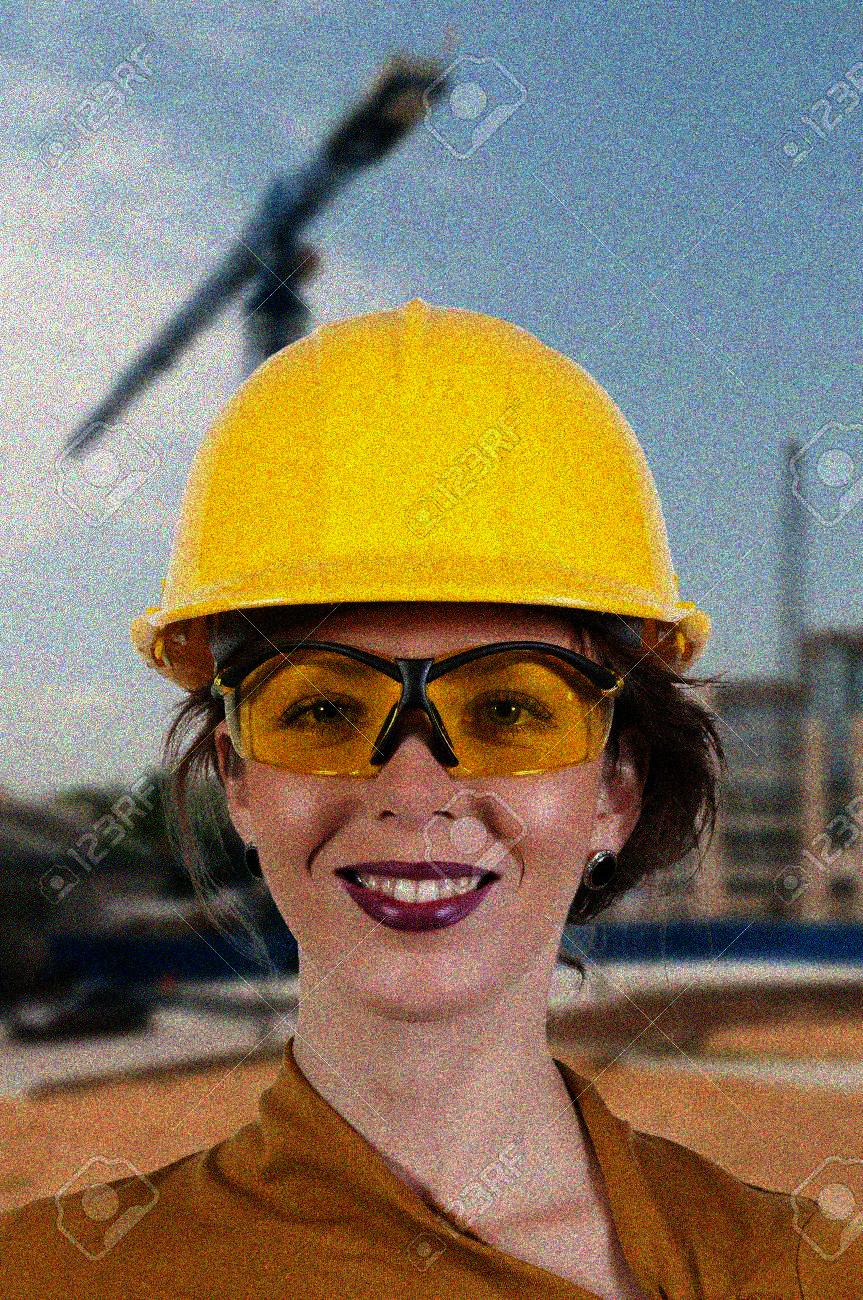helmet: (132, 299, 720, 1024)
